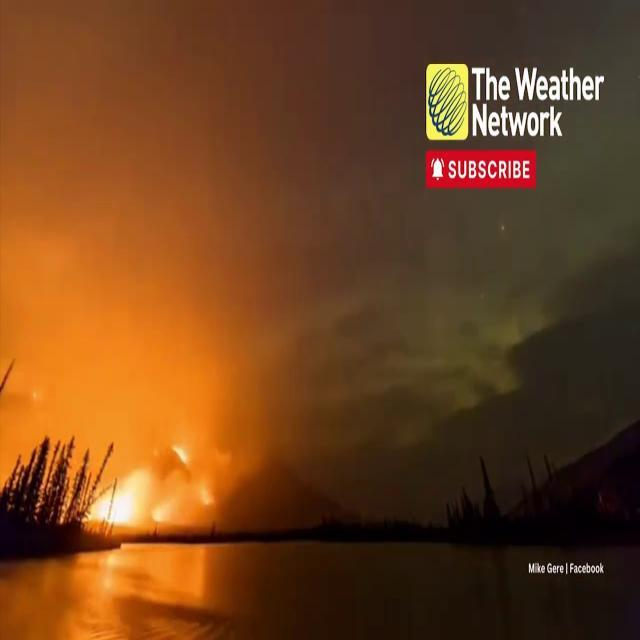Fire: (79, 416, 219, 540)
Smoke: (0, 2, 419, 424)
